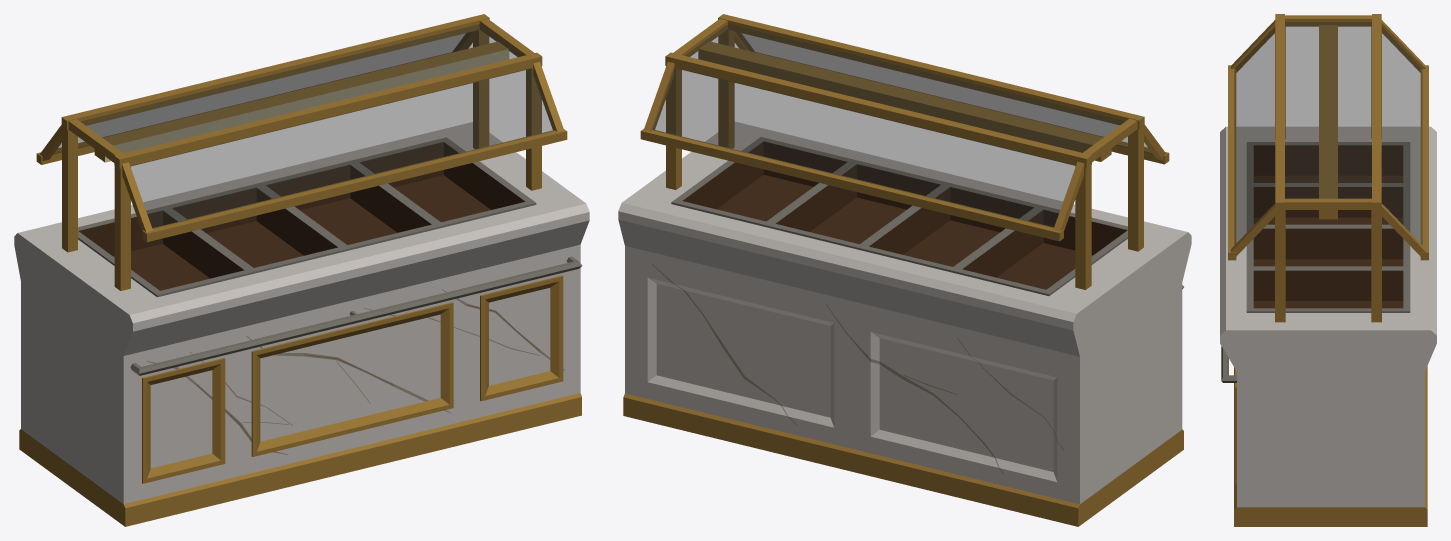
The model's file is buffet-serving-line-run-c04e58.glb.
3 views of the same model, side by side, from view 1: azimuth 30°, elevation 25°; view 2: azimuth 150°, elevation 25°; view 3: azimuth 270°, elevation 25° (orthographic). The views are drawn at different scales.
Visible parts, largest first — view 1: counter, guard-glass; view 2: counter, guard-glass; view 3: counter, guard-glass.
Part boxes in pixels (x1=…): counter: x1=14, y1=14, x2=589, y2=526; guard-glass: x1=53, y1=24, x2=554, y2=228; counter: x1=618, y1=14, x2=1191, y2=526; guard-glass: x1=653, y1=24, x2=1152, y2=227; counter: x1=1220, y1=14, x2=1436, y2=526; guard-glass: x1=1234, y1=22, x2=1422, y2=244.
Size of the model in its own units: 2 by 1.45 by 0.9.
